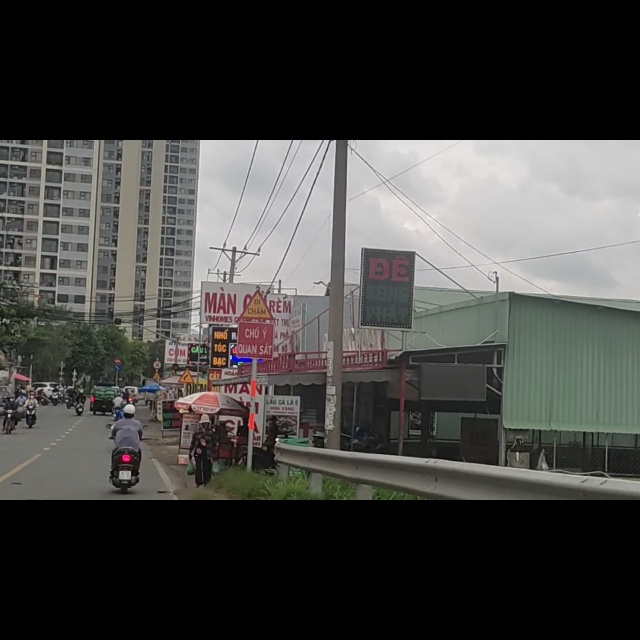bien_nguy_hiem: (240, 267, 273, 319), (178, 404, 195, 434)
